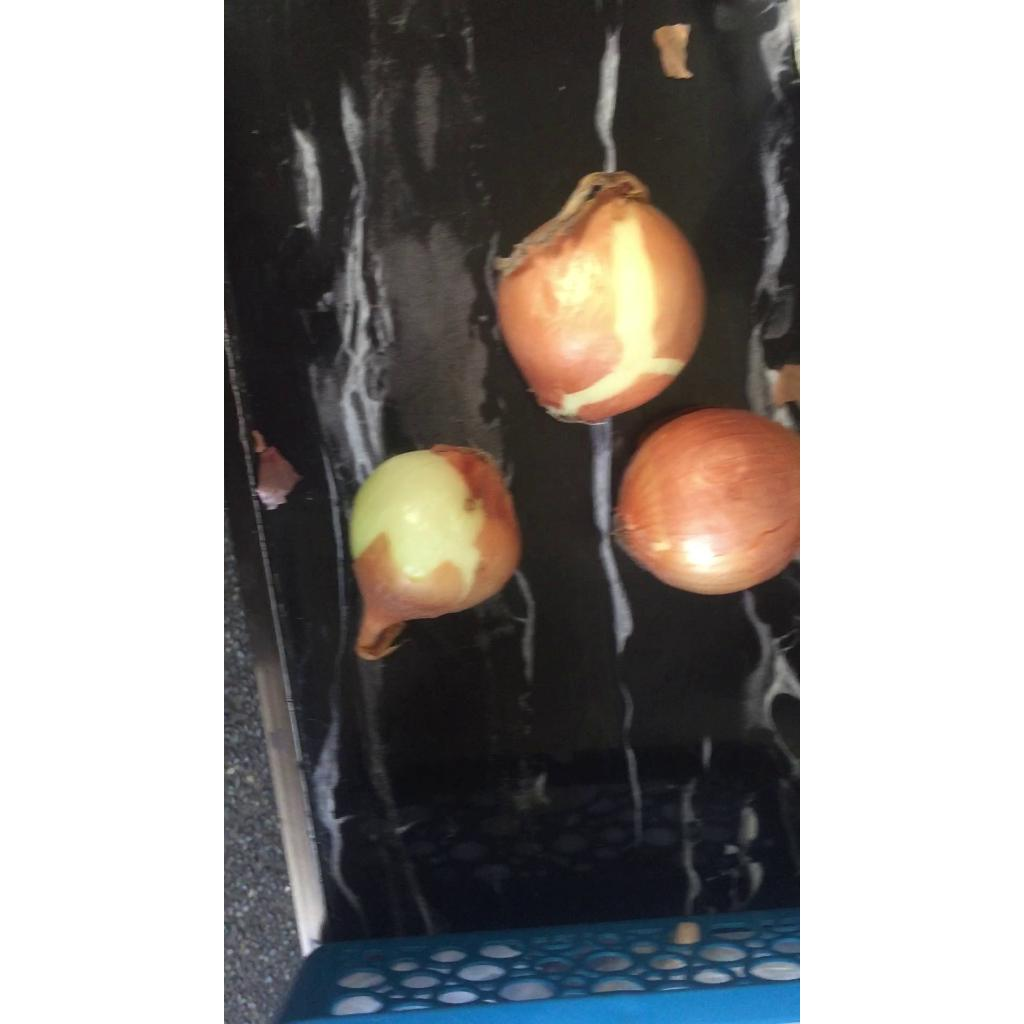Onion: (496, 170, 705, 423), (348, 445, 519, 661), (616, 408, 800, 595)
